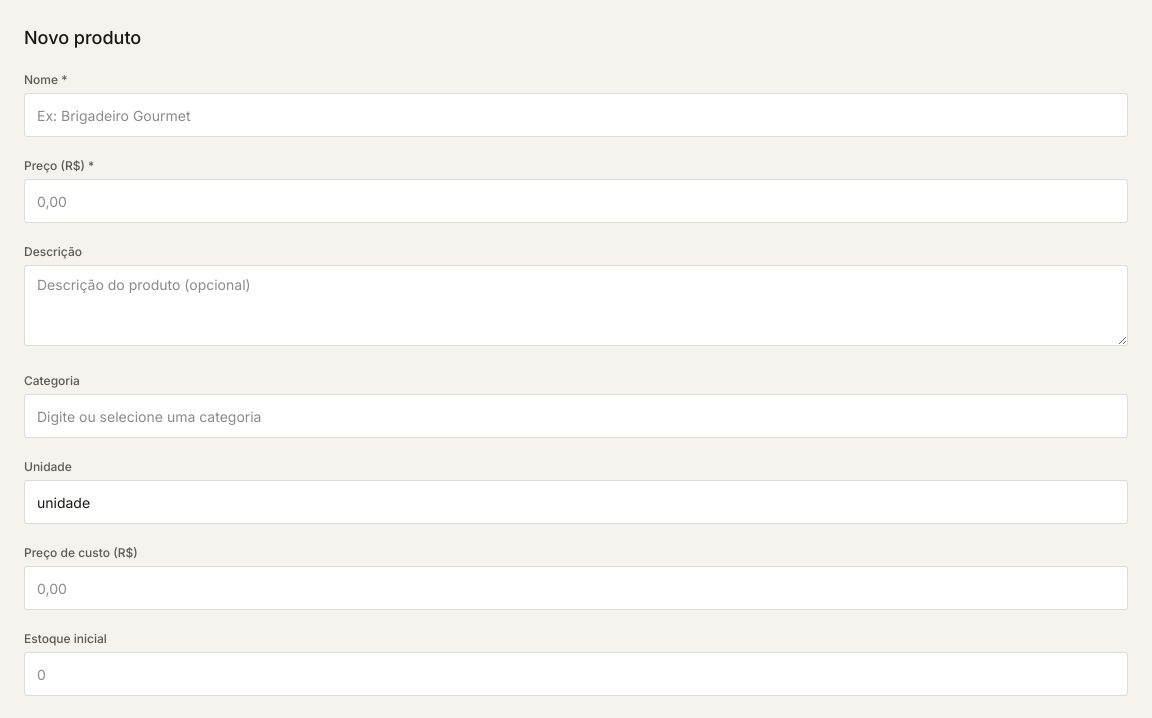
Test: ProductForm › C2 — aviso de margem negativa (custo > preço) › avisa quando o custo é maior que o preço de venda
The image size is (1152, 718).
Type "10" into the number field named "Preço do produto".
click(576, 201); type("10")  # box [24,179,1128,223]
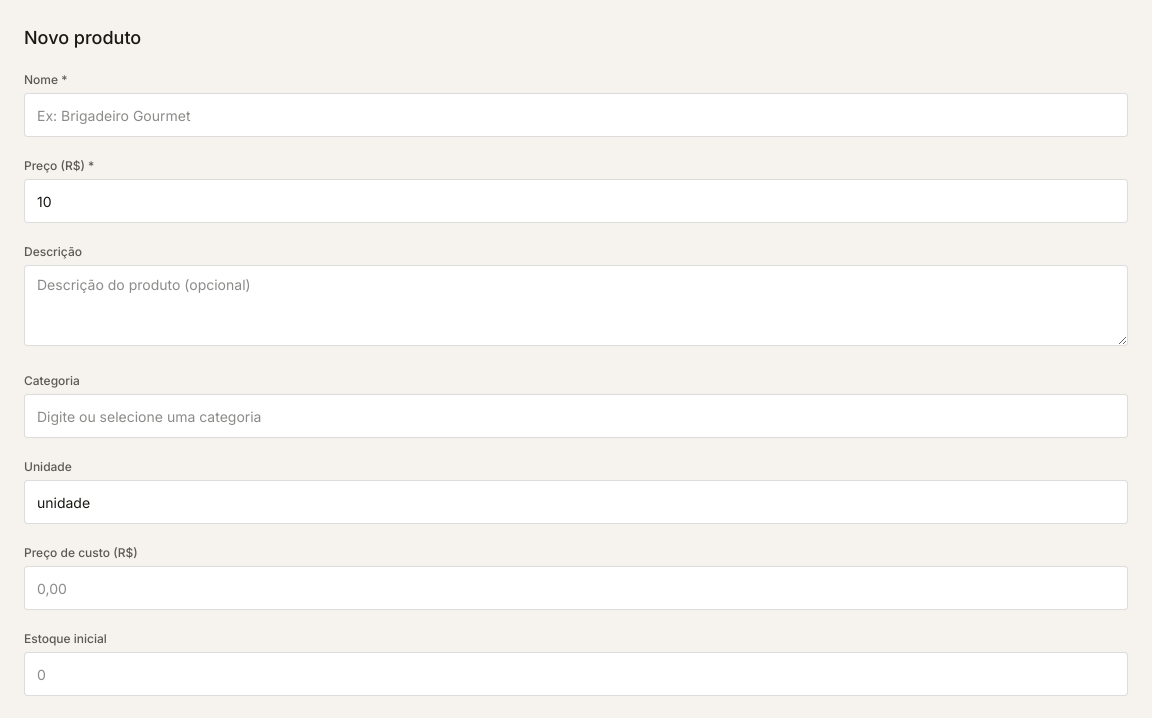
Type "15" into the number field named "Preço de custo".
click(576, 588); type("15")  # box [24,566,1128,610]
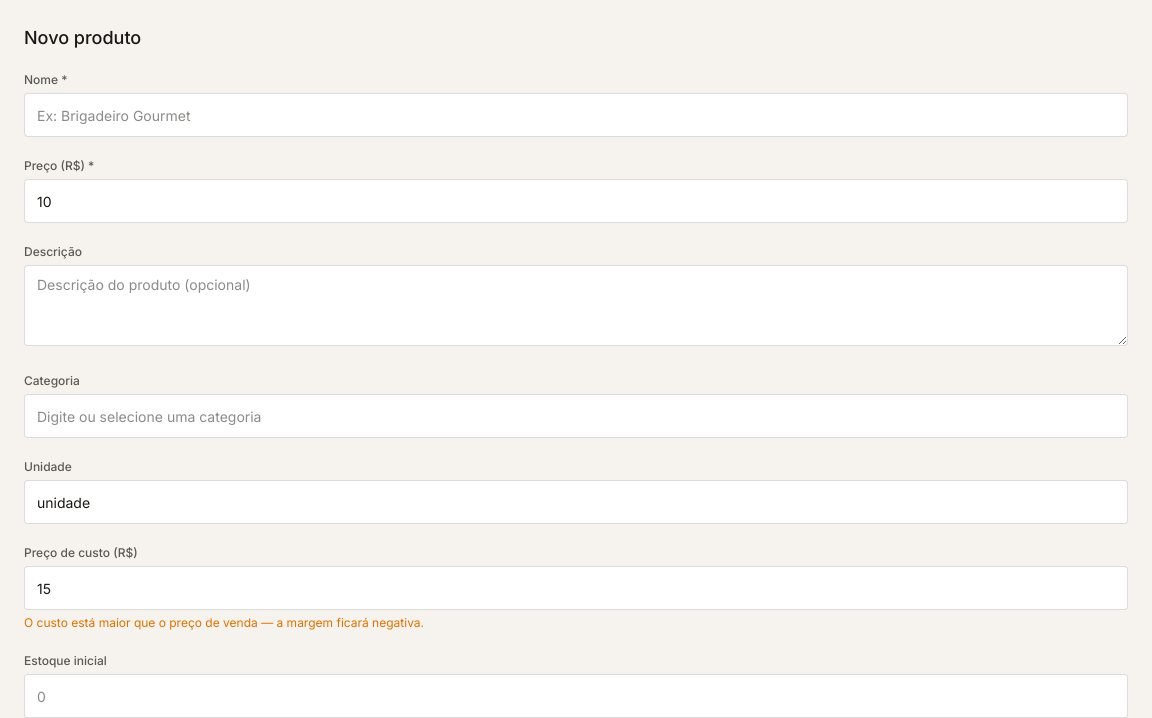
Expected: the text "O custo está maior que o preço de venda — a margem ficará negativa." is shown, [24,615,424,630]
